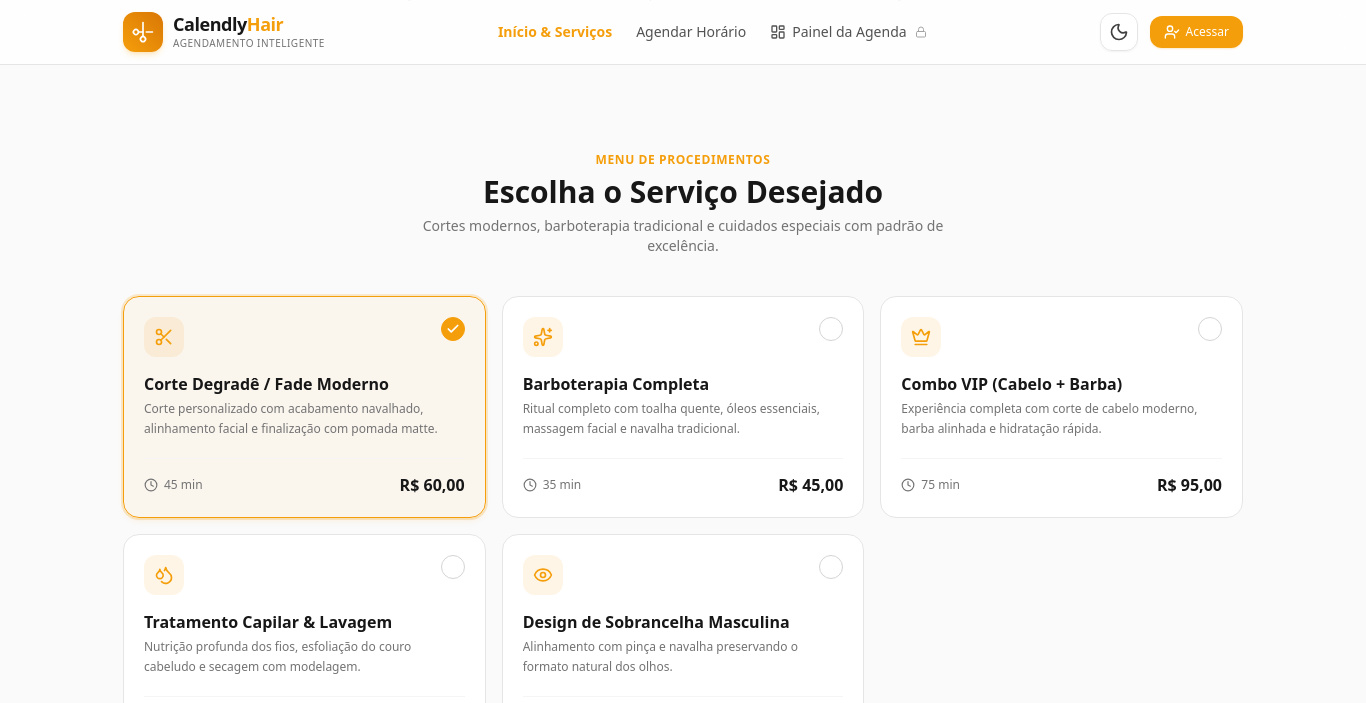
Fluxo Integrado - Home Page › renderiza a página inicial, interage com seleção e abre agendamento
The width and height of the screenshot is (1366, 703).
(page scrolled)
Check: the heading "Corte Degradê / Fade Moderno" is shown, box x1=144 y1=373 x2=389 y2=395
Note: Seleciona outro serviço
Click the heading "Barboterapia Completa" at (616, 384), box x1=523 y1=373 x2=709 y2=395
(page scrolled)
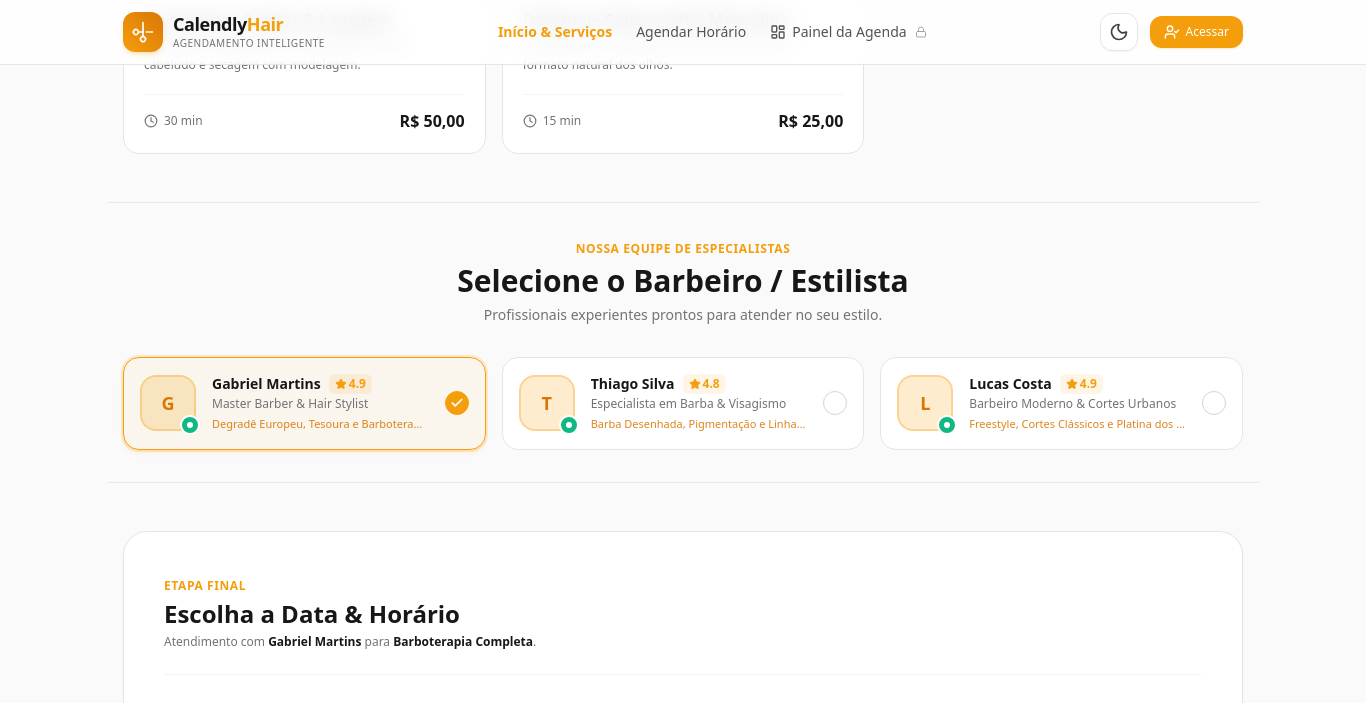
Note: Seleciona outro profissional
Click the heading "Thiago Silva" at (633, 384), box x1=591 y1=374 x2=675 y2=394
(page scrolled)
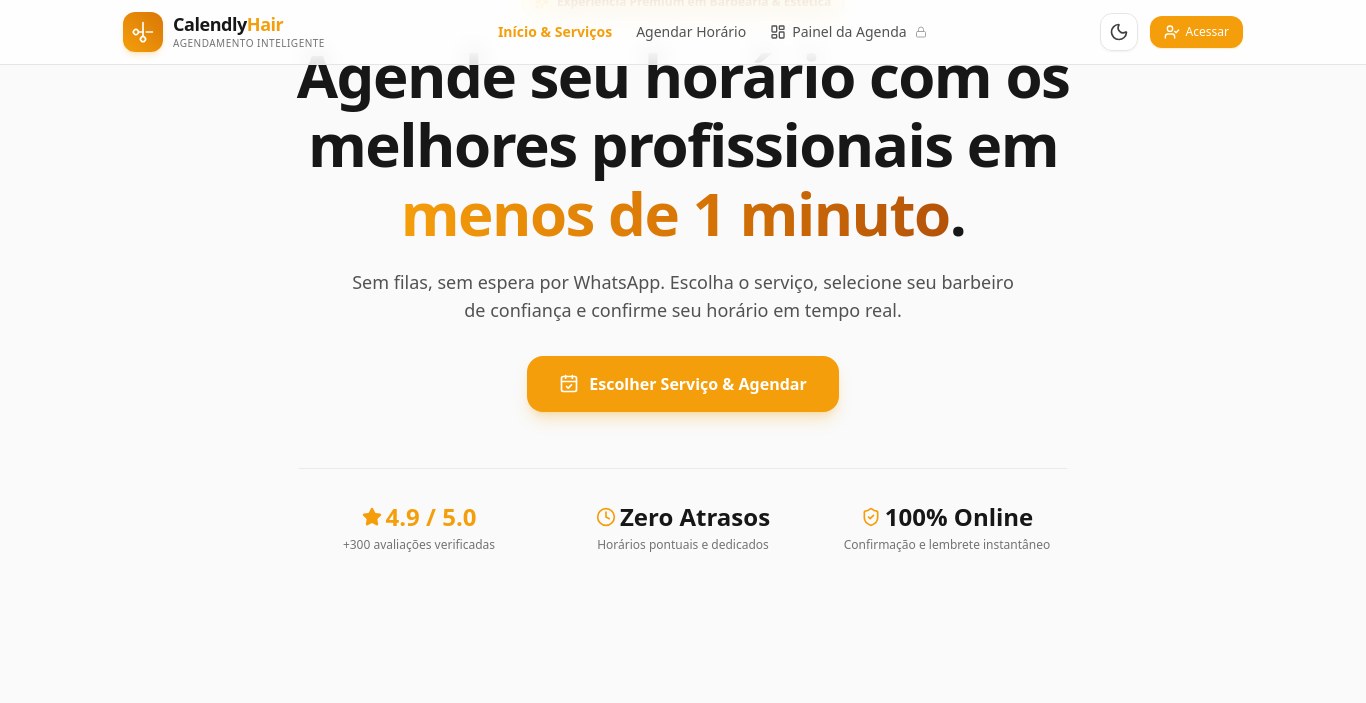
Note: Clica no botão do Hero para rolar
Click the button "Escolher Serviço & Agendar" at (683, 384), box x1=527 y1=356 x2=839 y2=412
(page scrolled)
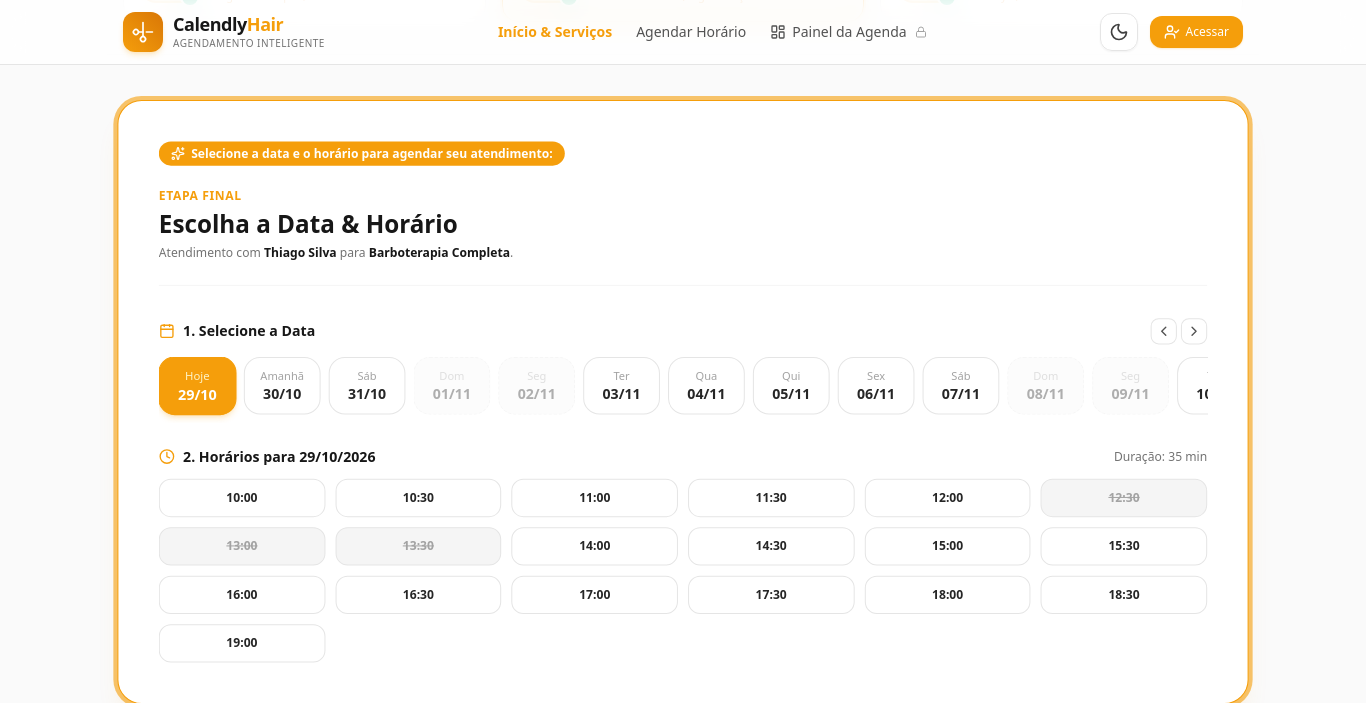
Click the button "Amanhã 30/10" at (282, 385), box x1=244 y1=356 x2=320 y2=414
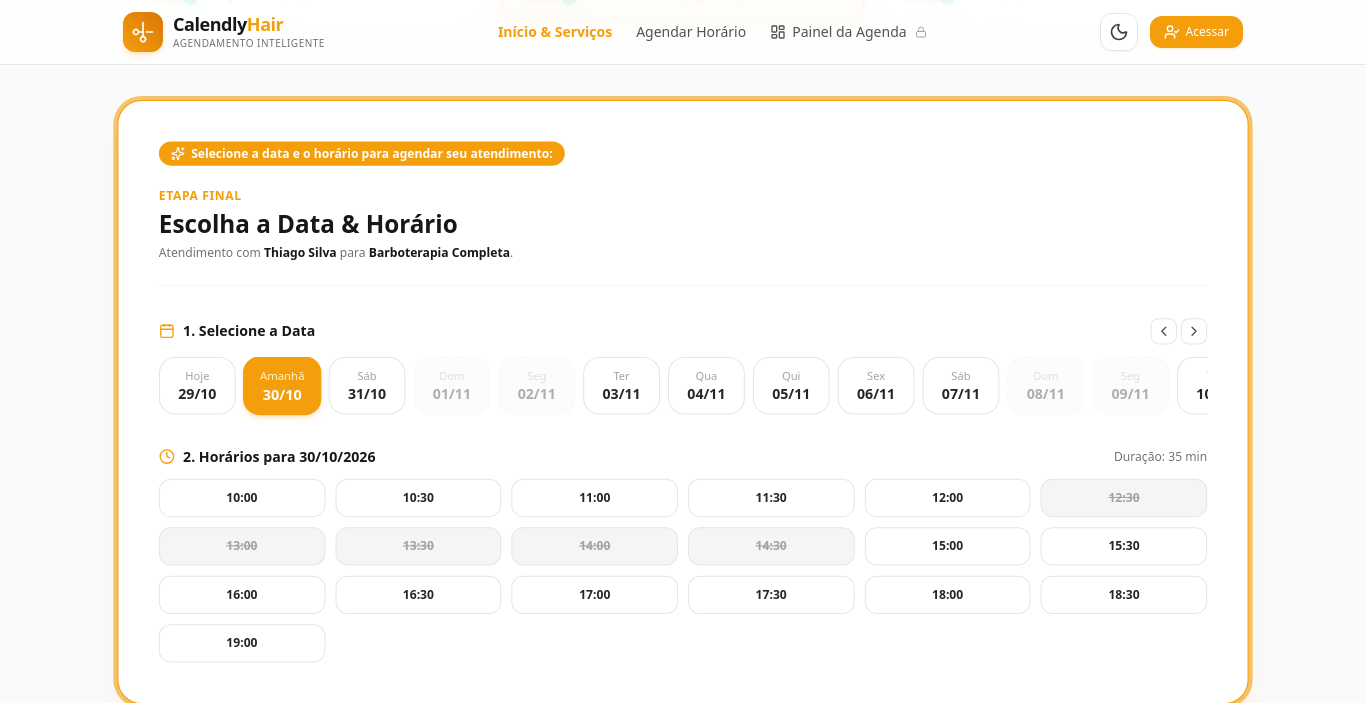
Note: Navega ao Painel da Agenda e volta
Click the button "Painel da Agenda" at (848, 32), box x1=770 y1=22 x2=927 y2=42
(page scrolled)
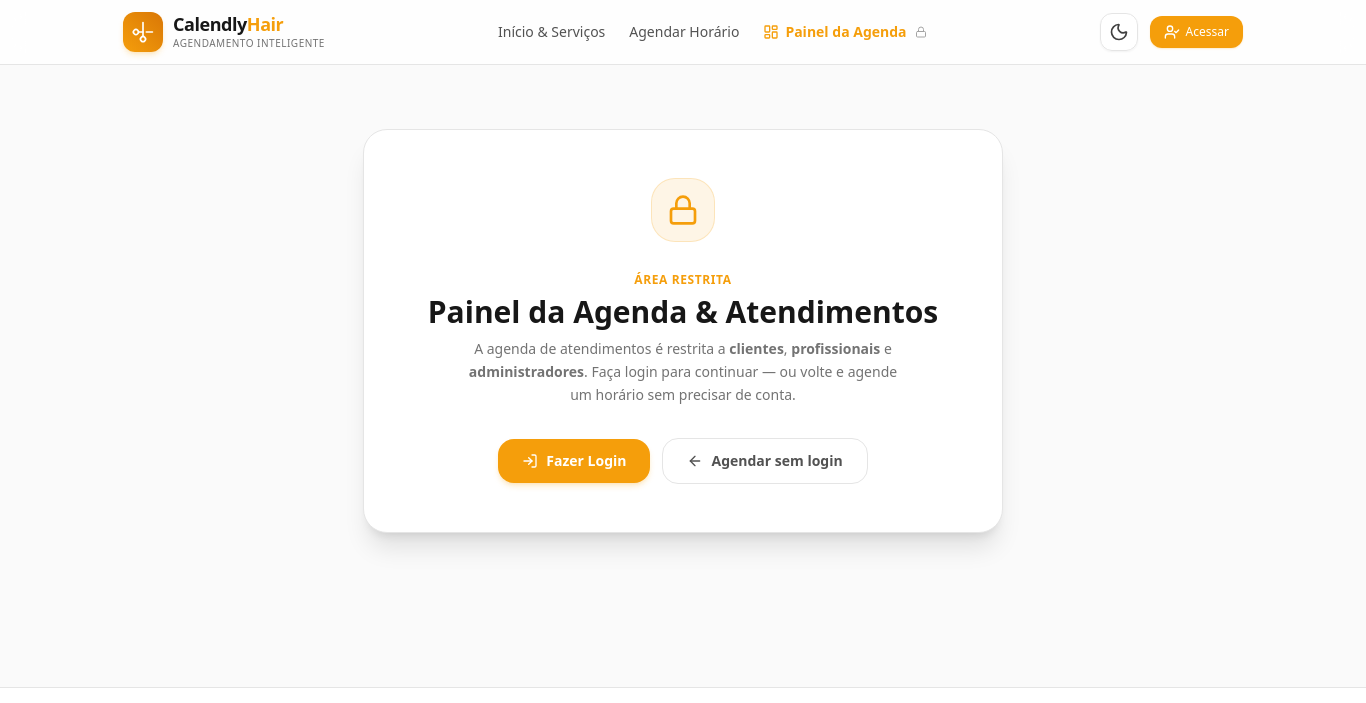
Check: the heading "Painel da Agenda & Atendimentos" is shown, box x1=412 y1=294 x2=954 y2=330
Note: Visitante não logado: painel restrito, volta pela ação "Agendar sem login"
Click the button "Agendar sem login" at (765, 461), box x1=662 y1=438 x2=868 y2=484
(page scrolled)
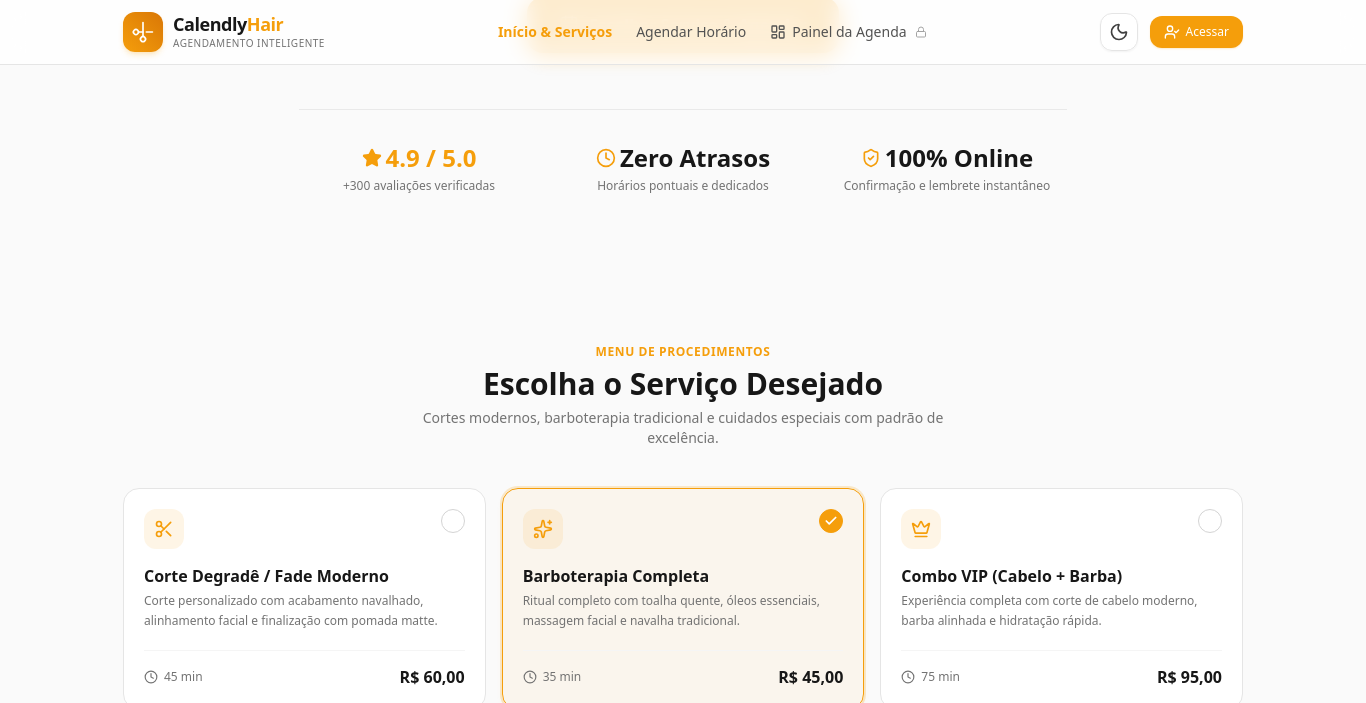
Check: the heading "Escolha o Serviço Desejado" is shown, box x1=483 y1=363 x2=883 y2=404
